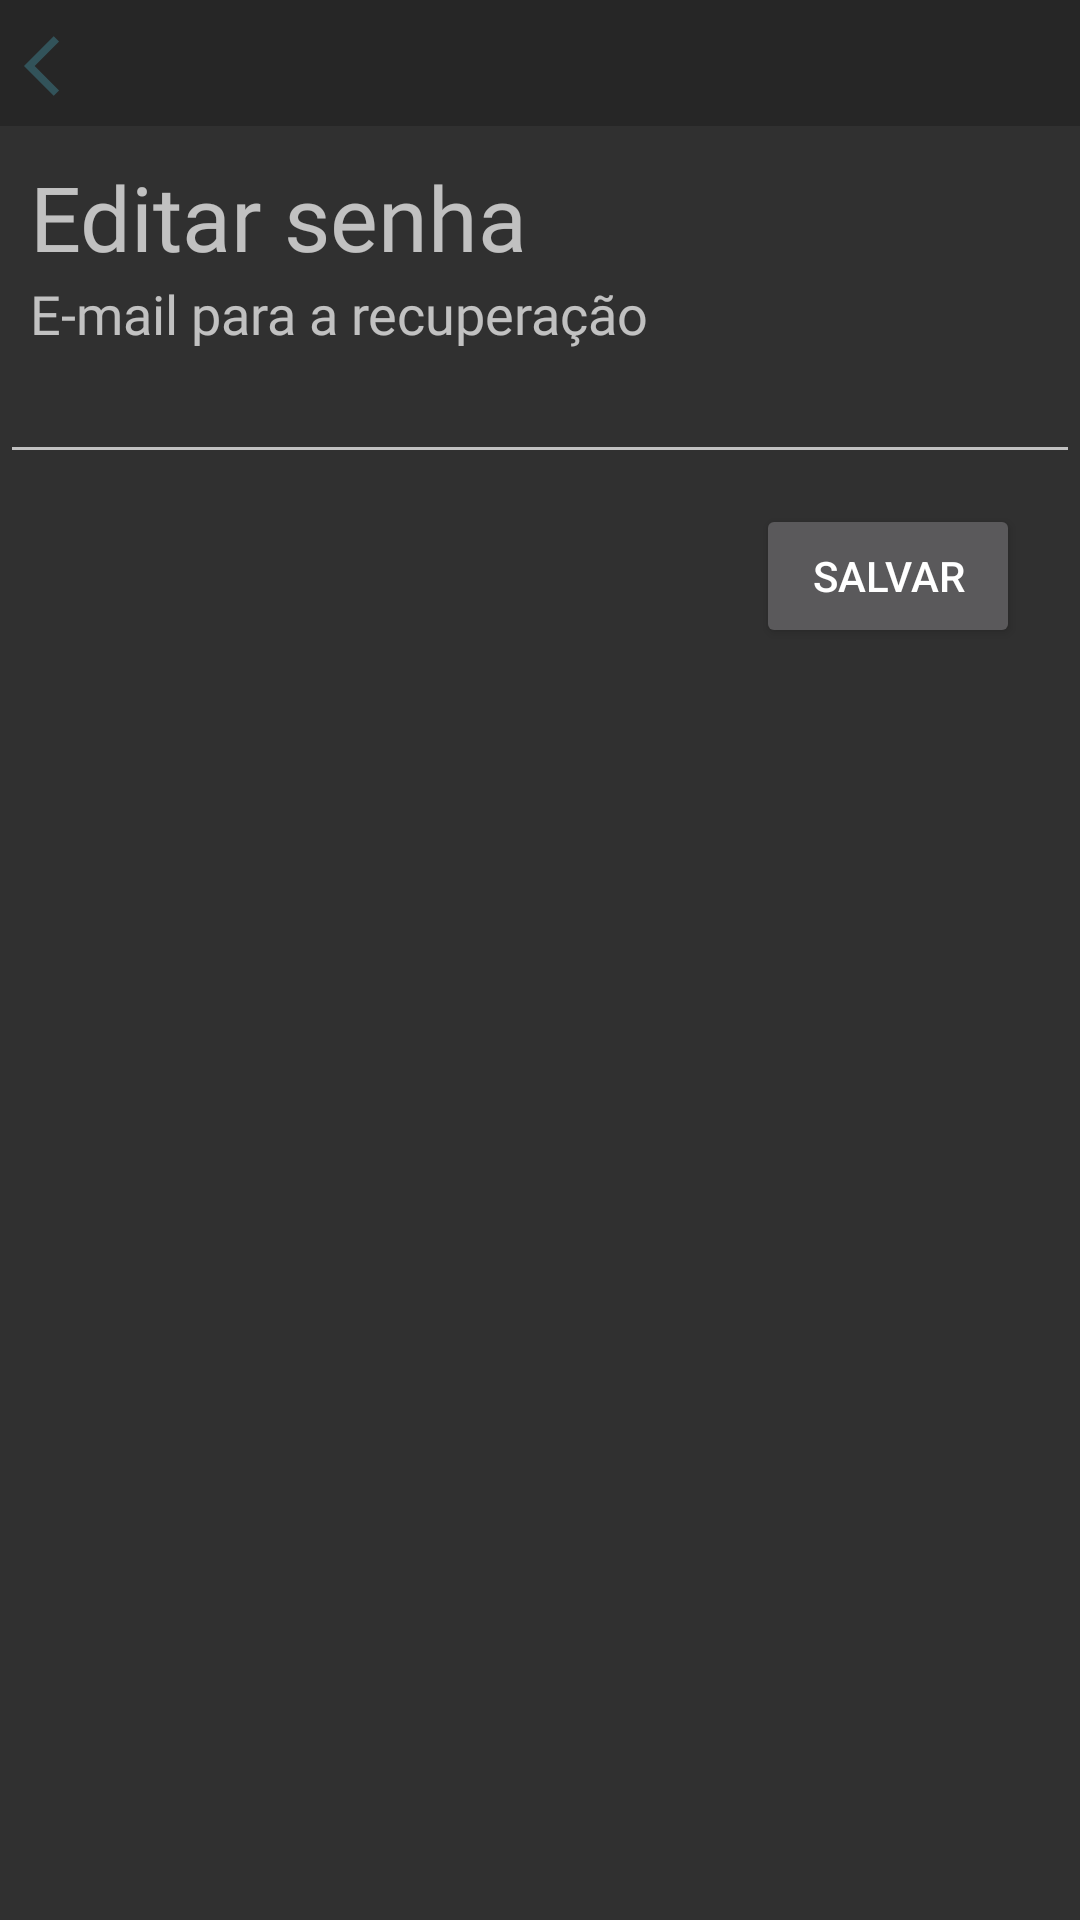

Where icons sit on this 1080w x 1920h app screen, as (x1, y1, x2, y2):
arrow back: (24, 36, 59, 96)
